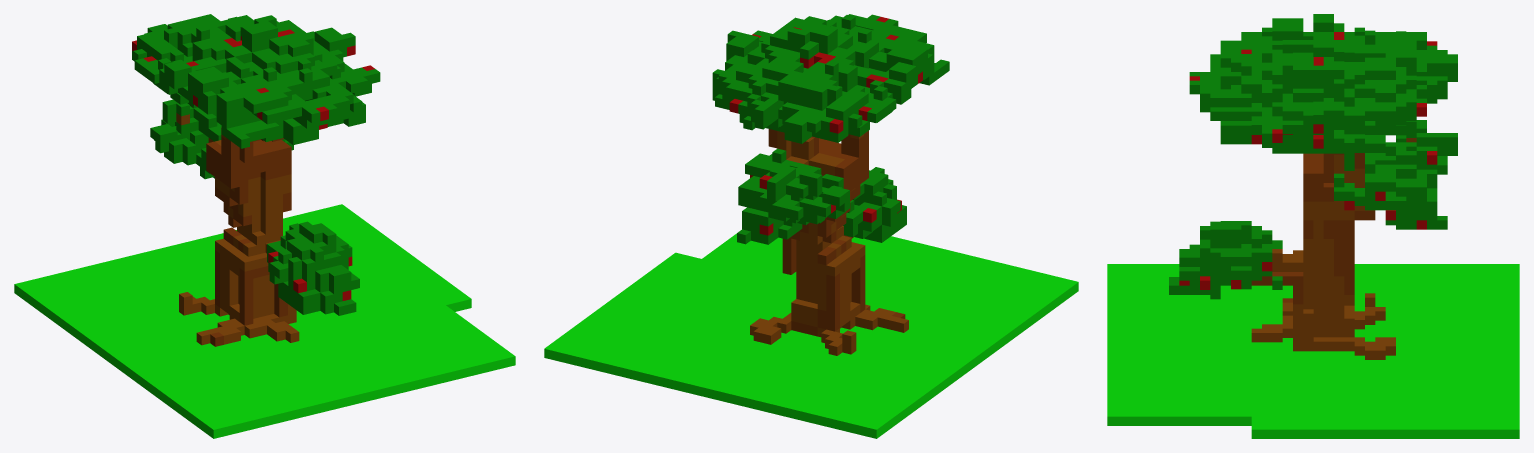
The model's file is aple tree.obj.
3 renders of one model, left to right at view 1: azimuth 30°, elevation 25°; view 2: azimuth 150°, elevation 25°; view 3: azimuth 270°, elevation 25°, orthographic. The views are drawn at different scales.
Size of the model in its own units: 3.8 by 3.3 by 4.
Materials: 1 (1 with a texture image).
